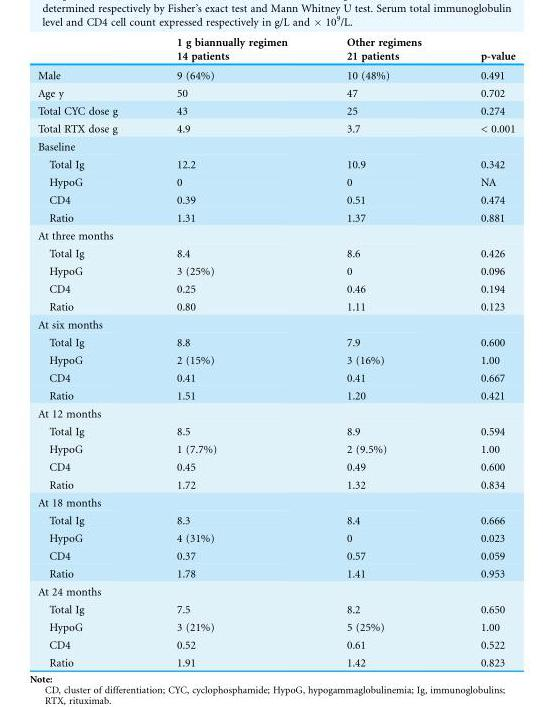table: (37, 36, 514, 668)
table column: (146, 36, 316, 668), (316, 36, 450, 668), (37, 36, 146, 668), (450, 36, 514, 668)
table column header: (37, 36, 514, 65)
table projected row header: (37, 137, 514, 155), (37, 226, 514, 244), (37, 315, 514, 333), (37, 404, 514, 422), (37, 493, 514, 511), (37, 582, 514, 600)
table row: (37, 65, 514, 84), (37, 84, 514, 102), (37, 102, 514, 120), (37, 137, 514, 155), (37, 155, 514, 173), (37, 173, 514, 191), (37, 191, 514, 209), (37, 226, 514, 244), (37, 244, 514, 262), (37, 262, 514, 280), (37, 280, 514, 298), (37, 315, 514, 333), (37, 333, 514, 351), (37, 351, 514, 369), (37, 369, 514, 387), (37, 404, 514, 422), (37, 422, 514, 440), (37, 440, 514, 458), (37, 458, 514, 476), (37, 493, 514, 511), (37, 511, 514, 529), (37, 529, 514, 547), (37, 547, 514, 565), (37, 582, 514, 600), (37, 600, 514, 618), (37, 618, 514, 636), (37, 636, 514, 654), (37, 120, 514, 137), (37, 209, 514, 226), (37, 298, 514, 315), (37, 387, 514, 404), (37, 476, 514, 493), (37, 565, 514, 582), (37, 49, 514, 65), (37, 654, 514, 668), (37, 36, 514, 49)
table spanning cell: (146, 36, 316, 65), (316, 36, 450, 65), (450, 36, 514, 65)
